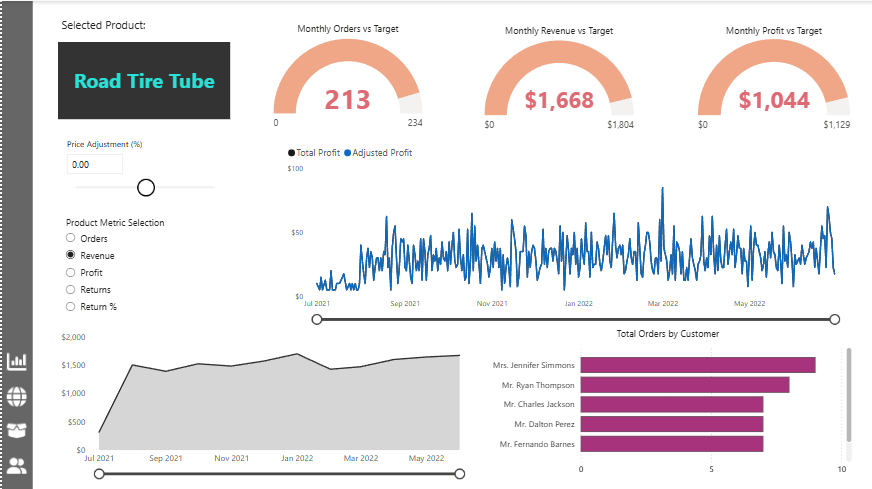

Layout of this report page (visuals, bound fields, positions):
{"tool":"powerbi","page":{"name":"Product Detail","canvas":[1280,720],"ordinal":2},"visuals":[{"type":"shape","box":[0,0,45,720],"z":0},{"type":"gauge","title":"Monthly Orders vs Target","fields":{"Y":["Measure Table.Total Orders"],"MaxValue":["Measure Table.Order Target"]},"box":[392.2,30.7,228.3,168.3],"z":1000},{"type":"actionButton","box":[3.3,508.7,41.8,37.3],"z":1000,"group":"g1"},{"type":"gauge","title":"Monthly Revenue vs Target","fields":{"Y":["Measure Table.Total Revenue"],"MaxValue":["Measure Table.Revenue Target"]},"box":[700.7,34.2,228.7,167.5],"z":2000},{"type":"actionButton","box":[3.3,609.9,41.8,37.3],"z":2000,"group":"g1"},{"type":"gauge","title":"Monthly Profit vs Target","fields":{"Y":["Measure Table.Total Profit"],"MaxValue":["Measure Table.Profit Target"]},"box":[1011.2,33.7,237.1,165.4],"z":3000},{"type":"actionButton","box":[3.3,660.4,41.8,37.3],"z":3000,"group":"g1"},{"type":"lineChart","title":"Profit Trending","fields":{"Y":["Measure Table.Total Profit","Measure Table.Adjusted Profit"],"Category":["Calendar Lookup.Date Hierarchy.Start of Month","Calendar Lookup.Date Hierarchy.Start of Week","Calendar Lookup.Date Hierarchy.Date","Calendar Lookup.Date Hierarchy.Year"]},"box":[413.2,201.6,834.9,275.5],"z":4000},{"type":"actionButton","box":[3.3,559.3,41.8,37.3],"z":4000,"group":"g1"},{"type":"areaChart","title":"Return Trending","fields":{"Y":["Measure Table.Total Revenue"],"Category":["Calendar Lookup.Date Hierarchy.Start of Month","Calendar Lookup.Date Hierarchy.Start of Week","Calendar Lookup.Date Hierarchy.Date","Calendar Lookup.Date Hierarchy.Year"]},"box":[82.5,476.4,618.7,226.1],"z":5000},{"type":"clusteredBarChart","title":"Total Orders by Customer","fields":{"Category":["Customer Lookup.Full Name"],"Y":["Measure Table.Total Orders"]},"box":[701.2,477.5,547.5,226.2],"z":6000},{"type":"card","fields":{"Values":["Min(Product Lookup.ProductName)"]},"box":[81.9,59.9,251.9,112.5],"z":7000},{"type":"textbox","box":[82,19,251.7,30.7],"z":8000},{"type":"group","id":"g1","title":"Navigation Buttons","box":[3.3,508.7,41.8,189.1],"z":9000},{"type":"slicer","fields":{"Values":["Price Adjustment (%).Price Adjustment (%)"]},"box":[82,196.1,251.7,114.1],"z":10000},{"type":"slicer","fields":{"Values":["Product Metric Selection.Product Metric Selection"]},"box":[80.5,310.2,253.2,166.8],"z":11000}]}

Visuals, with their boxes on the page's 1280x720 design canvas (x1, y1, x2, y2). These are canvas units, not pixel positions in the 872x489 screenshot, which may show the page scaled, cropped or inside an application window:
shape: <bbox>0, 0, 45, 720</bbox>
"Monthly Orders vs Target" gauge: <bbox>392, 31, 620, 199</bbox>
actionButton: <bbox>3, 509, 45, 546</bbox>
"Monthly Revenue vs Target" gauge: <bbox>701, 34, 929, 202</bbox>
actionButton: <bbox>3, 610, 45, 647</bbox>
"Monthly Profit vs Target" gauge: <bbox>1011, 34, 1248, 199</bbox>
actionButton: <bbox>3, 660, 45, 698</bbox>
"Profit Trending" lineChart: <bbox>413, 202, 1248, 477</bbox>
actionButton: <bbox>3, 559, 45, 597</bbox>
"Return Trending" areaChart: <bbox>82, 476, 701, 702</bbox>
"Total Orders by Customer" clusteredBarChart: <bbox>701, 478, 1249, 704</bbox>
card - Min(Product Lookup.ProductName): <bbox>82, 60, 334, 172</bbox>
textbox: <bbox>82, 19, 334, 50</bbox>
"Navigation Buttons" group: <bbox>3, 509, 45, 698</bbox>
slicer - Price Adjustment (%).Price Adjustment (%): <bbox>82, 196, 334, 310</bbox>
slicer - Product Metric Selection.Product Metric Selection: <bbox>80, 310, 334, 477</bbox>
